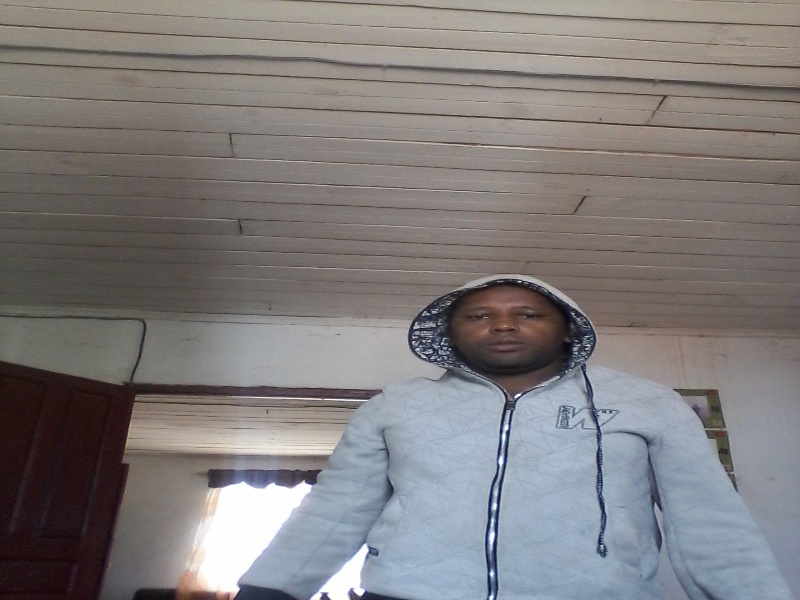TsisyArotava: (445, 258, 570, 389)
